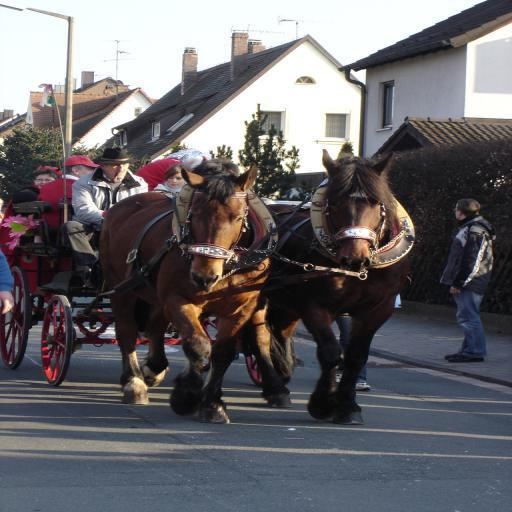horse: (99, 159, 272, 425), (266, 152, 412, 428)
